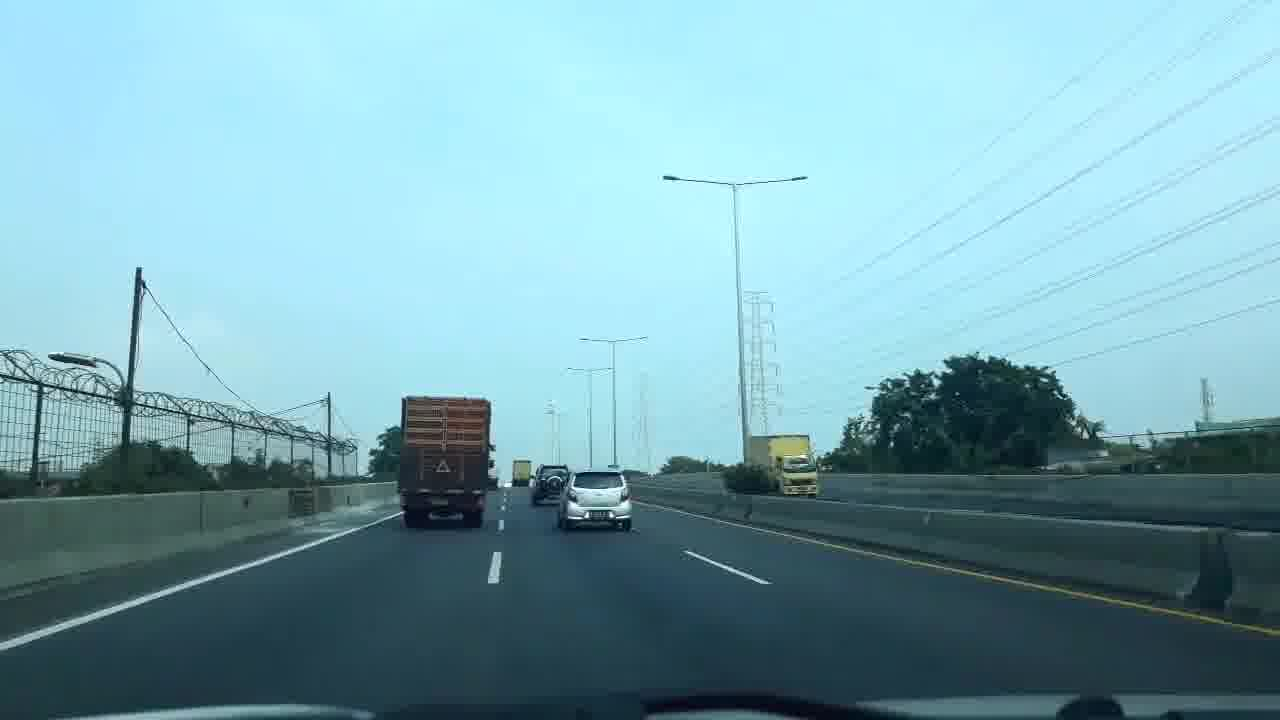plate_positive: (589, 511, 609, 519), (432, 498, 449, 505)
